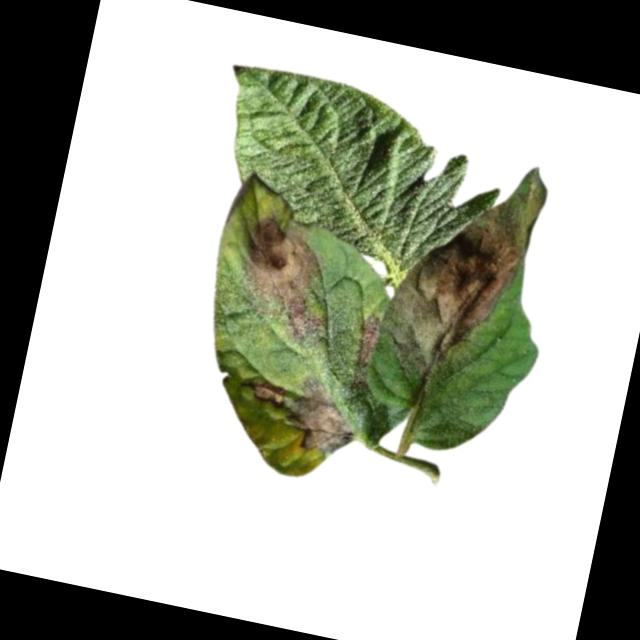Late_blight: (374, 153, 553, 408), (226, 208, 344, 352), (231, 360, 366, 465), (353, 308, 384, 371)
